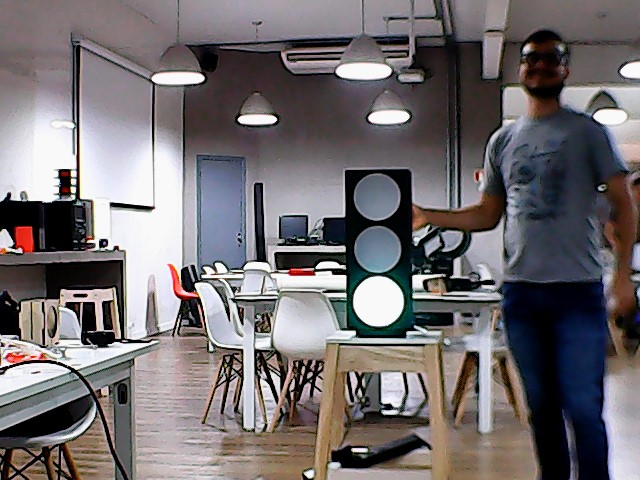verde: (343, 167, 416, 341)
